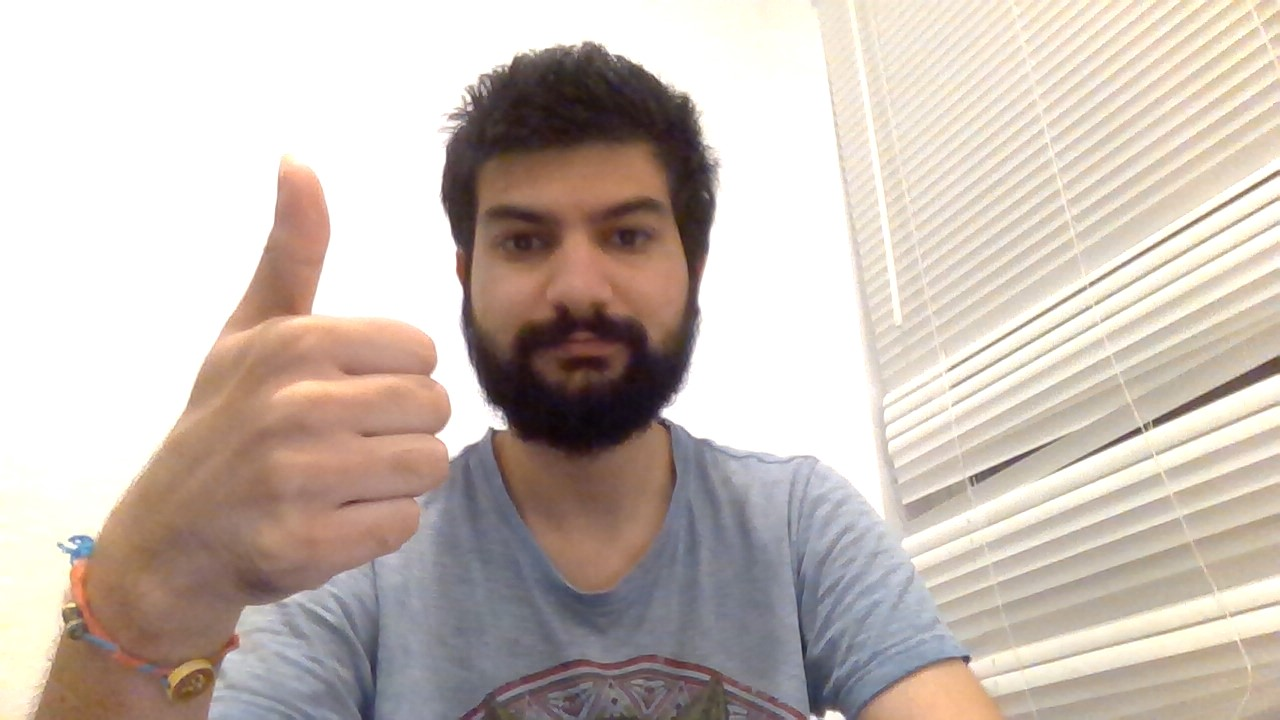up: (177, 139, 472, 592)
